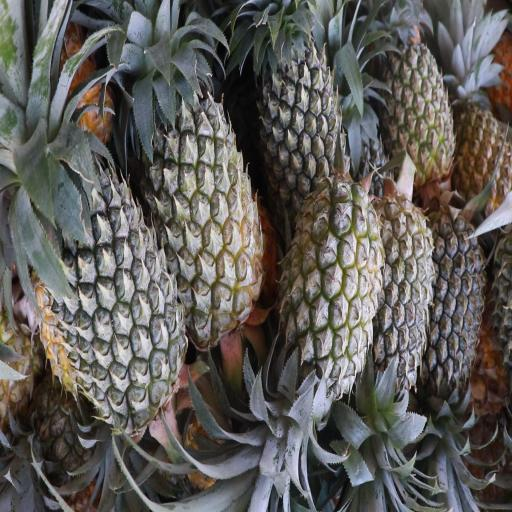------------------------------: (139, 79, 263, 330), (285, 175, 383, 401), (383, 24, 454, 187)
